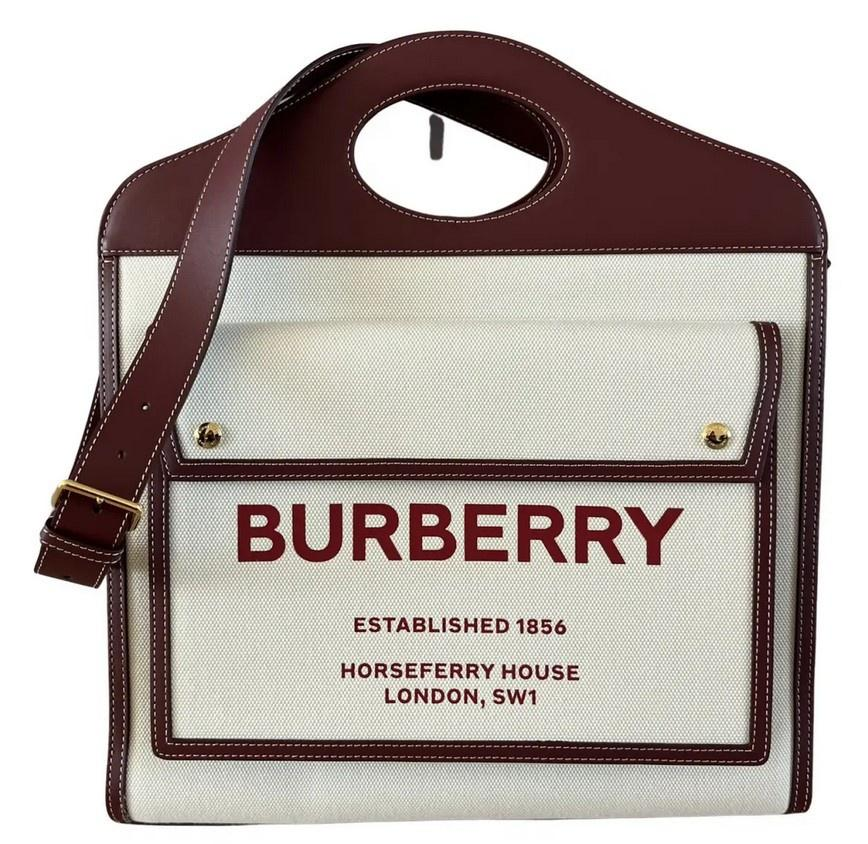BURBERRY: (238, 503, 685, 565)
